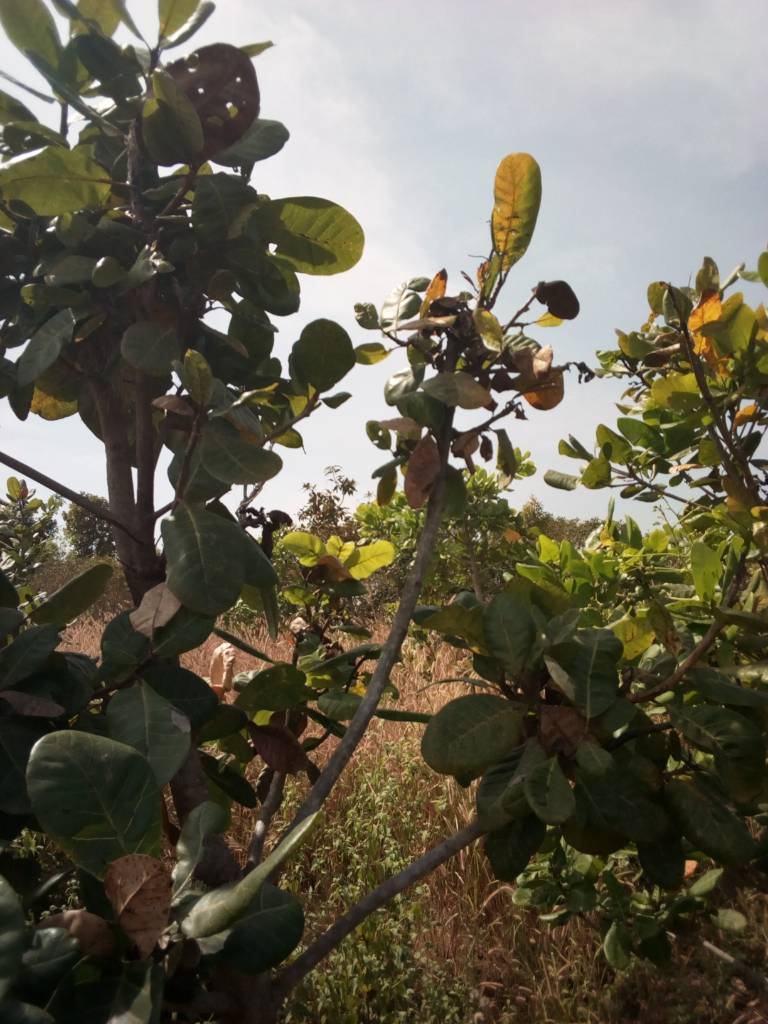Die-black: (523, 277, 605, 327)
